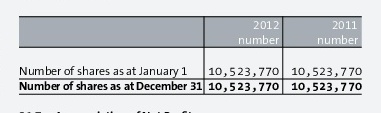table: (0, 0, 381, 113)
